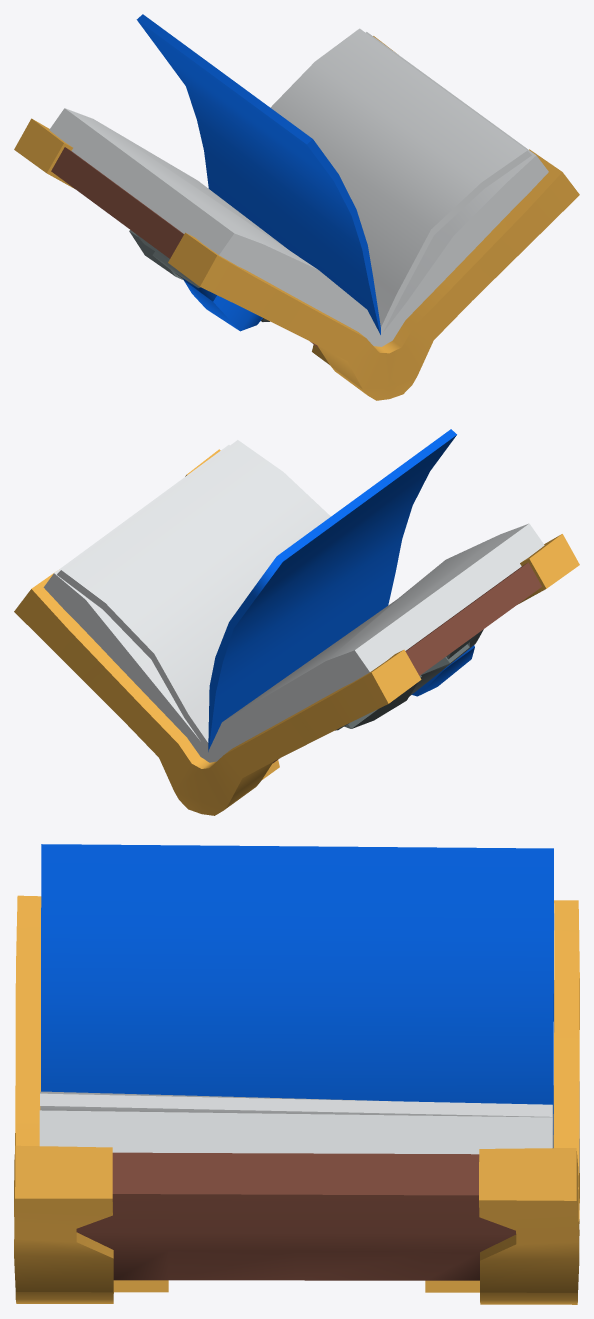
The model's file is Acc_LHand_16.fbx.
3 renders of one model, top to bottom at view 1: azimuth 30°, elevation 25°; view 2: azimuth 150°, elevation 25°; view 3: azimuth 270°, elevation 25°, orthographic. The views are drawn at different scales.
Visible parts, largest first — view 1: Acc_LHand_16; view 2: Acc_LHand_16; view 3: Acc_LHand_16.
Part boxes in pixels (x1,y1,x2,y2): Acc_LHand_16: (14,14,579,400); Acc_LHand_16: (14,429,579,815); Acc_LHand_16: (14,844,579,1304).
Bounding box in the file's own units: 27.48 × 18.75 × 23.88.
